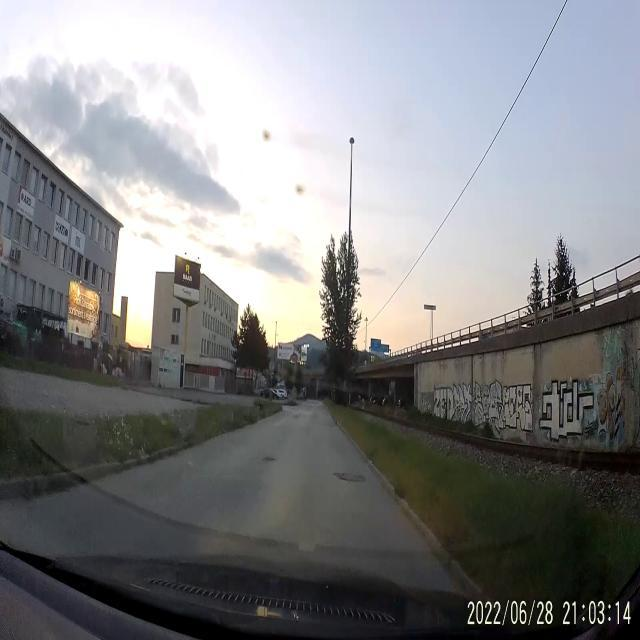Manhole: (332, 468, 367, 486)
Pothole: (262, 455, 276, 468)
